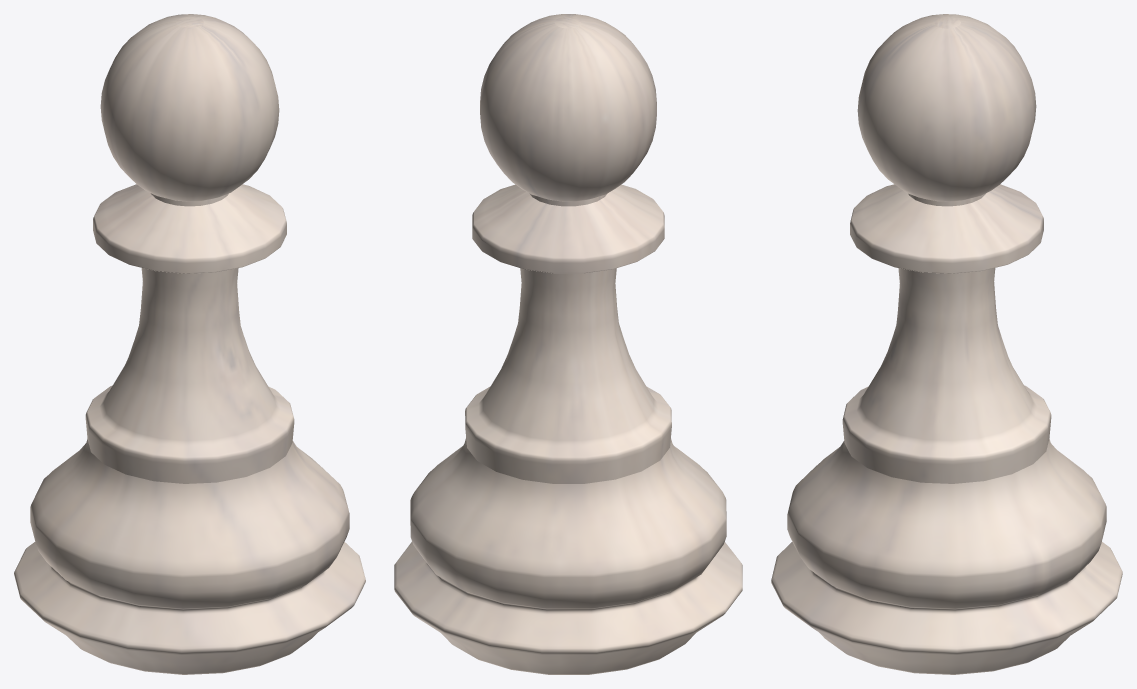
The model's file is pawn.obj.
The picture shows the model from 3 angles, left to right: view 1: azimuth 30°, elevation 25°; view 2: azimuth 150°, elevation 25°; view 3: azimuth 270°, elevation 25°; orthographic projection.
Visible parts, largest first — view 1: chessKitExport; view 2: chessKitExport; view 3: chessKitExport.
Boxes of the visible parts, left/top/right/bottom form: chessKitExport: left=14, top=14, right=365, bottom=674; chessKitExport: left=394, top=14, right=742, bottom=674; chessKitExport: left=771, top=14, right=1122, bottom=674.
Size of the model in its own units: 3.48 by 6.55 by 3.48.
